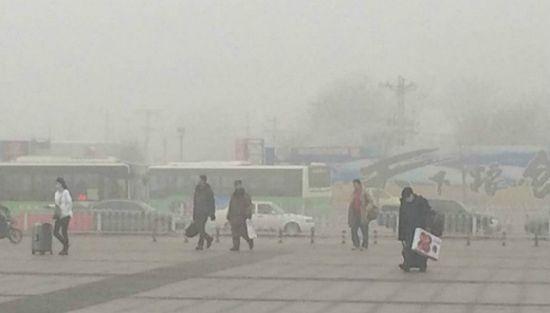bus: (140, 162, 332, 228), (1, 157, 131, 226)
car: (378, 198, 502, 239), (207, 202, 316, 237), (79, 200, 173, 232)
motorbike: (1, 206, 23, 244)
person: (397, 186, 431, 272), (43, 177, 72, 255), (226, 179, 254, 251), (347, 178, 374, 252), (193, 174, 216, 249)
